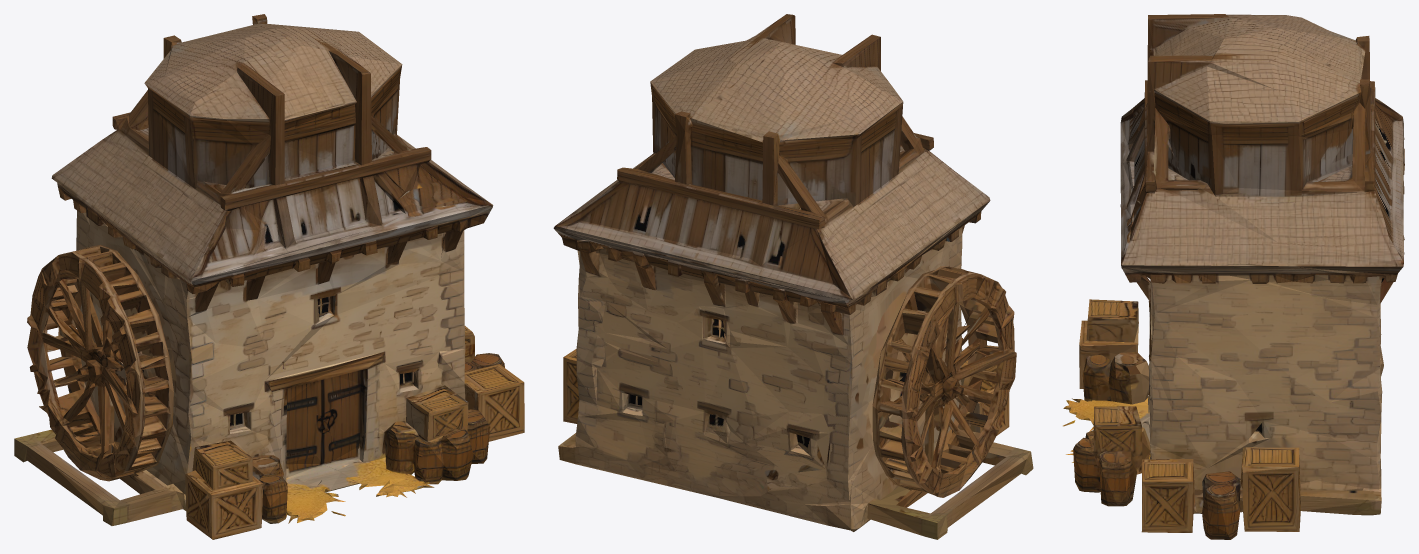
Rendered from mill.glb.
3 renders of one model, left to right at view 1: azimuth 30°, elevation 25°; view 2: azimuth 150°, elevation 25°; view 3: azimuth 270°, elevation 25°, orthographic.
Parts seen in each view (by area): view 1: textured_mesh.obj; view 2: textured_mesh.obj; view 3: textured_mesh.obj.
Part boxes in pixels (left/top/right/bottom): textured_mesh.obj: left=14, top=14, right=524, bottom=539; textured_mesh.obj: left=553, top=14, right=1033, bottom=539; textured_mesh.obj: left=1063, top=14, right=1404, bottom=539.
Size of the model in its own units: 1.93 by 1.77 by 1.34.
Materials: 1 (1 with a texture image).
